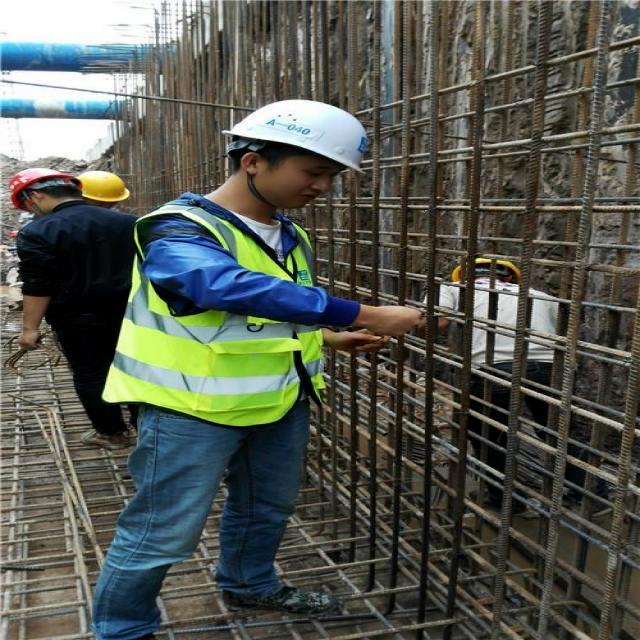hard_hat: (223, 99, 367, 171), (10, 168, 81, 211), (449, 255, 520, 283), (77, 170, 129, 208)
person: (95, 100, 394, 639), (12, 169, 136, 448), (438, 256, 559, 473)
